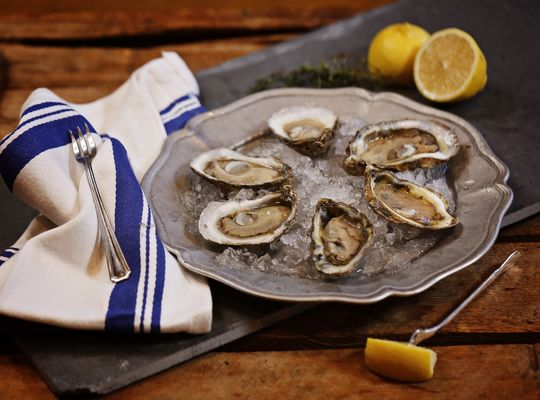taco: (412, 28, 488, 105)
